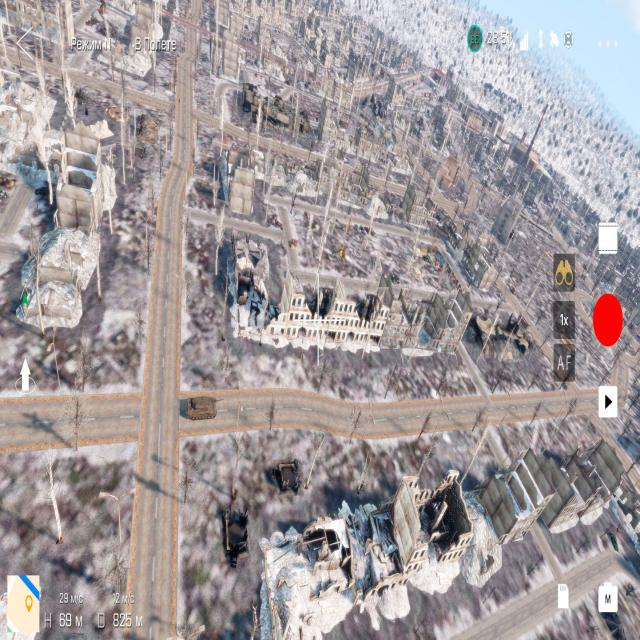fortification: (382, 456, 467, 606), (18, 230, 115, 352), (29, 119, 120, 249), (258, 521, 353, 640), (317, 250, 402, 366), (332, 479, 410, 600), (535, 436, 623, 532), (246, 266, 334, 352), (222, 224, 278, 348), (472, 446, 544, 536), (0, 68, 73, 148), (362, 274, 434, 352), (419, 263, 473, 364), (448, 476, 502, 566), (275, 152, 356, 204), (237, 148, 309, 199), (220, 491, 262, 575), (216, 134, 258, 217), (364, 184, 426, 227), (330, 171, 396, 211), (268, 445, 314, 498)
vehicle: (178, 386, 225, 430)
